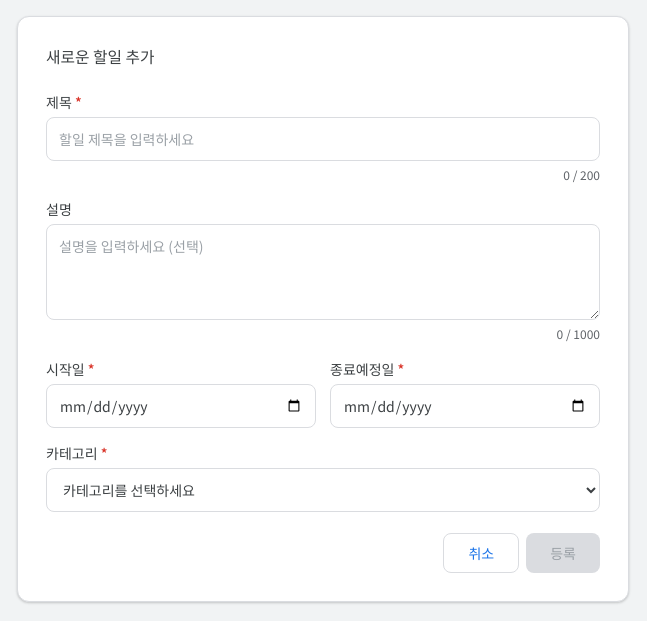
Test: TodoForm › 유효한 값 입력 시 제출 버튼 활성화
The width and height of the screenshot is (647, 621).
Type "테스트 제목" into the field labelled "제목 *" at (323, 139), box [46,117,600,161]
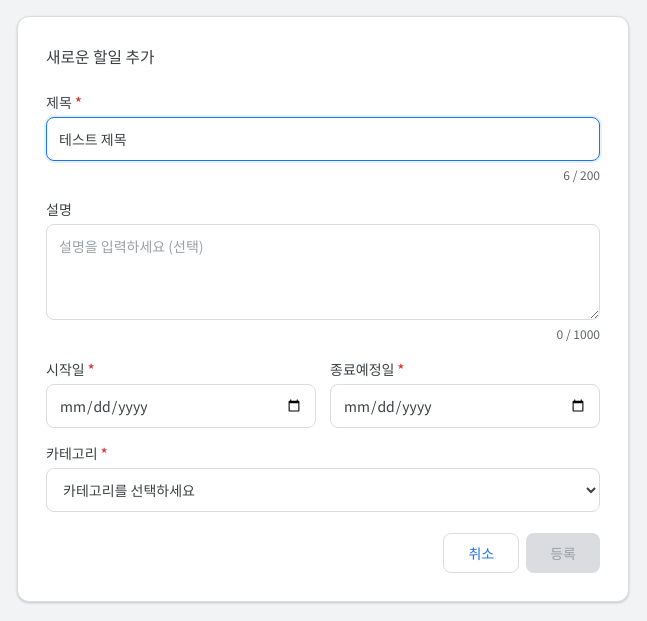
Type "2026-05-10" into the date field labelled "시작일 *" at (181, 406), box [46,384,316,428]
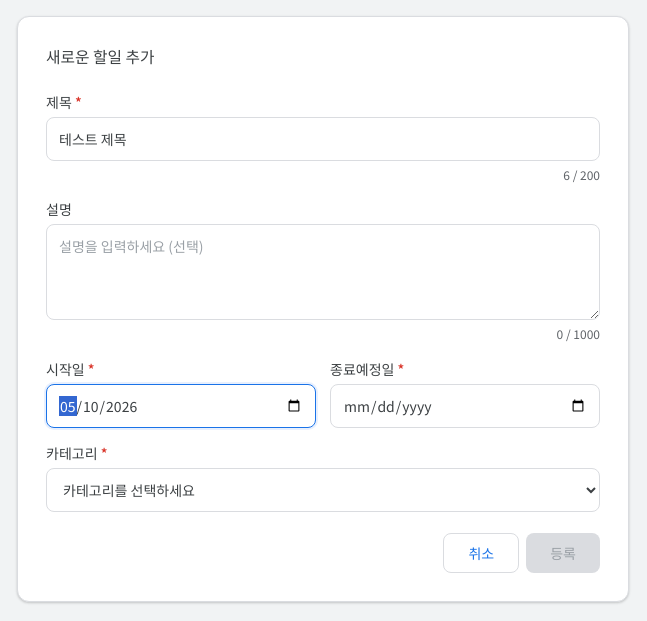
Type "2026-05-20" into the date field labelled "종료예정일 *" at (465, 406), box [330,384,600,428]
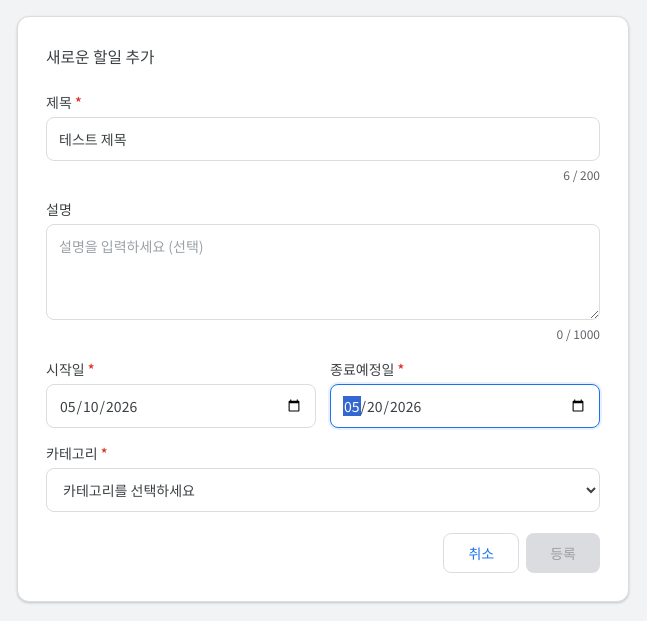
Select "업무" in the dropdown labelled "카테고리 *" at (323, 490), box [46,468,600,512]
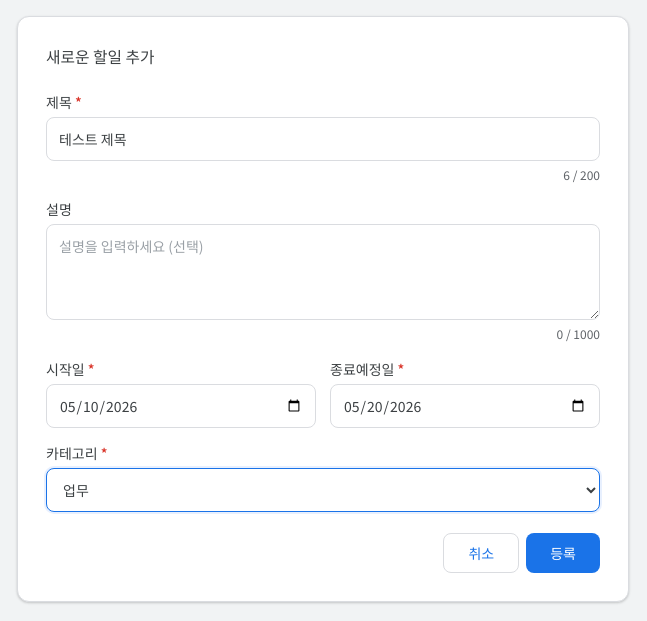
expect the button "등록" is enabled: met, box [526,533,600,573]
